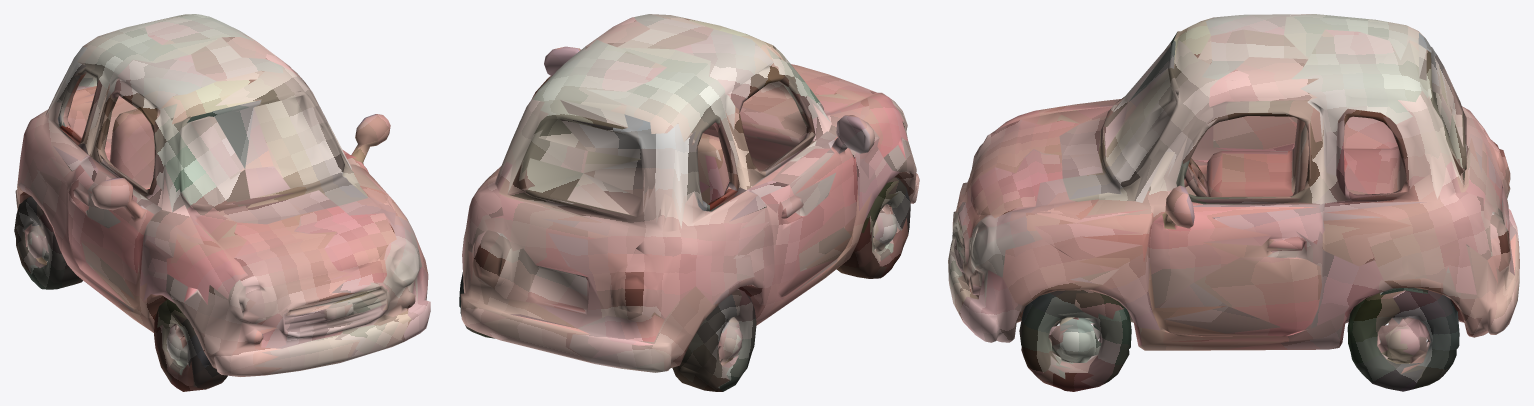
File: JP_사물_s2_sm_car.glb
The picture shows the model from 3 angles, left to right: view 1: azimuth 30°, elevation 25°; view 2: azimuth 150°, elevation 25°; view 3: azimuth 270°, elevation 25°; orthographic projection. The views are drawn at different scales.
Visible parts, largest first — view 1: tripo_node_3475c4f2-ecd9-4858-af2e-12a08e693214; view 2: tripo_node_3475c4f2-ecd9-4858-af2e-12a08e693214; view 3: tripo_node_3475c4f2-ecd9-4858-af2e-12a08e693214.
Part boxes in pixels (left/top/right/bottom): tripo_node_3475c4f2-ecd9-4858-af2e-12a08e693214: left=14, top=14, right=430, bottom=391; tripo_node_3475c4f2-ecd9-4858-af2e-12a08e693214: left=459, top=14, right=919, bottom=391; tripo_node_3475c4f2-ecd9-4858-af2e-12a08e693214: left=948, top=14, right=1519, bottom=391.
Bounding box in the file's own units: 0.7011 × 0.5571 × 1.
1 material, 1 textured.
